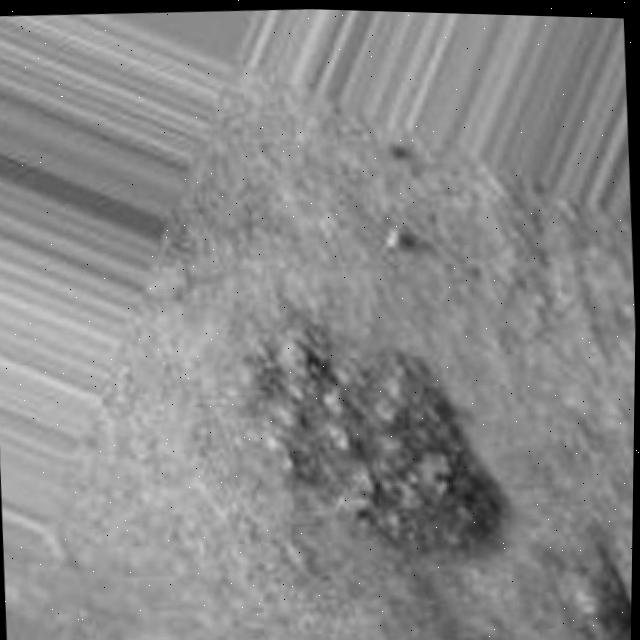Shingles: (246, 308, 506, 574)
